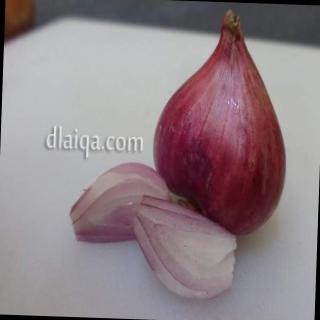Bawang Merah: (151, 7, 293, 238)
